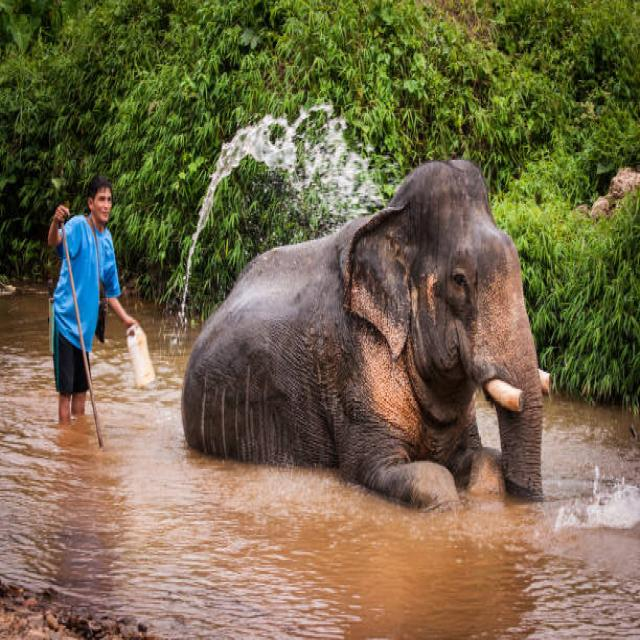Elephant: (180, 149, 550, 506)
